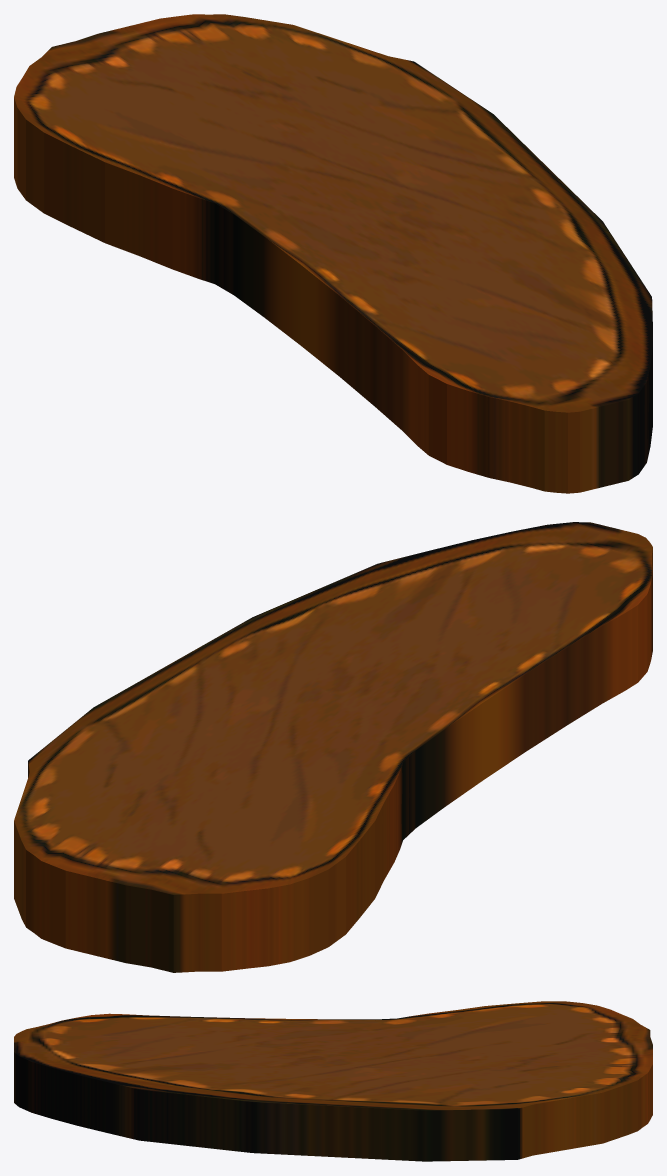
Rendered from Lace.glb.
3 renders of one model, top to bottom at view 1: azimuth 30°, elevation 25°; view 2: azimuth 150°, elevation 25°; view 3: azimuth 270°, elevation 25°, orthographic. The views are drawn at different scales.
Parts seen in each view (by area): view 1: Lace; view 2: Lace; view 3: Lace.
Part boxes in pixels (left/top/right/bottom): Lace: left=14, top=14, right=652, bottom=493; Lace: left=14, top=522, right=652, bottom=972; Lace: left=14, top=1001, right=652, bottom=1161.
Size of the model in its own units: 92.04 by 20 by 227.
1 material, 1 textured.
